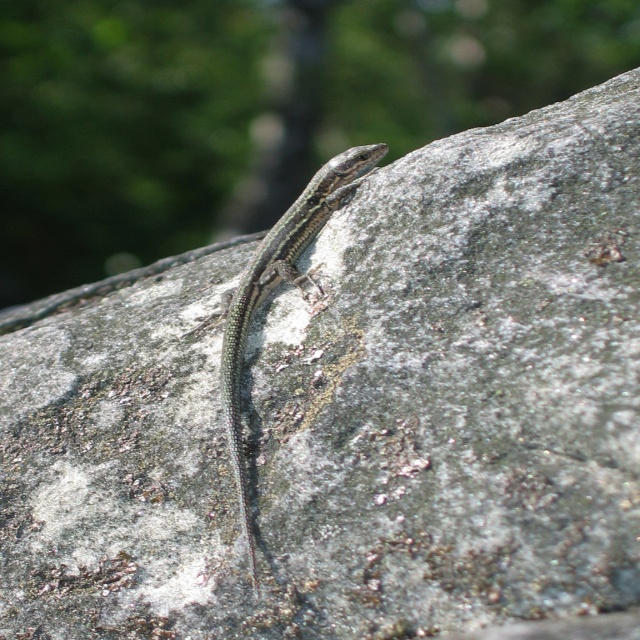Lizard: (157, 134, 389, 628)
